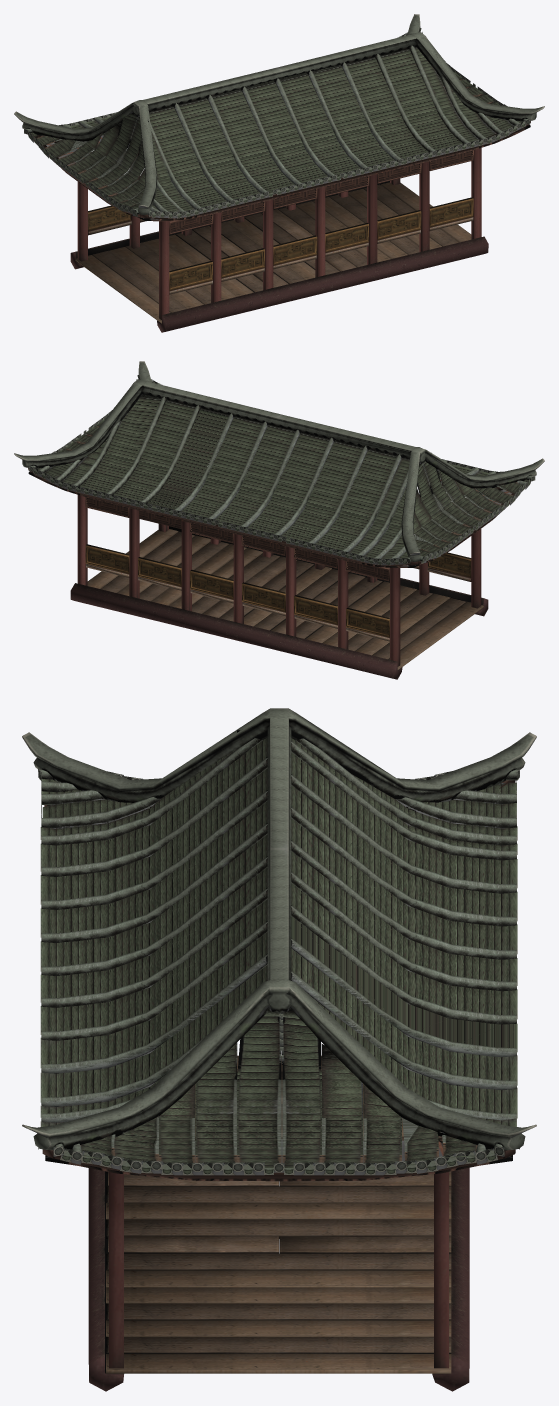
The model's file is NNJ0710001.fbx.
The picture shows the model from 3 angles, top to bottom: view 1: azimuth 30°, elevation 25°; view 2: azimuth 150°, elevation 25°; view 3: azimuth 270°, elevation 25°; orthographic projection. The views are drawn at different scales.
Parts seen in each view (by area): view 1: smNNJ0710001; view 2: smNNJ0710001; view 3: smNNJ0710001.
Boxes of the visible parts, x1=… form: smNNJ0710001: x1=14, y1=14, x2=544, y2=332; smNNJ0710001: x1=14, y1=361, x2=544, y2=679; smNNJ0710001: x1=22, y1=708, x2=536, y2=1391.
Bounding box in the file's own units: 1131 × 514 × 622.
1 material, 1 textured.
